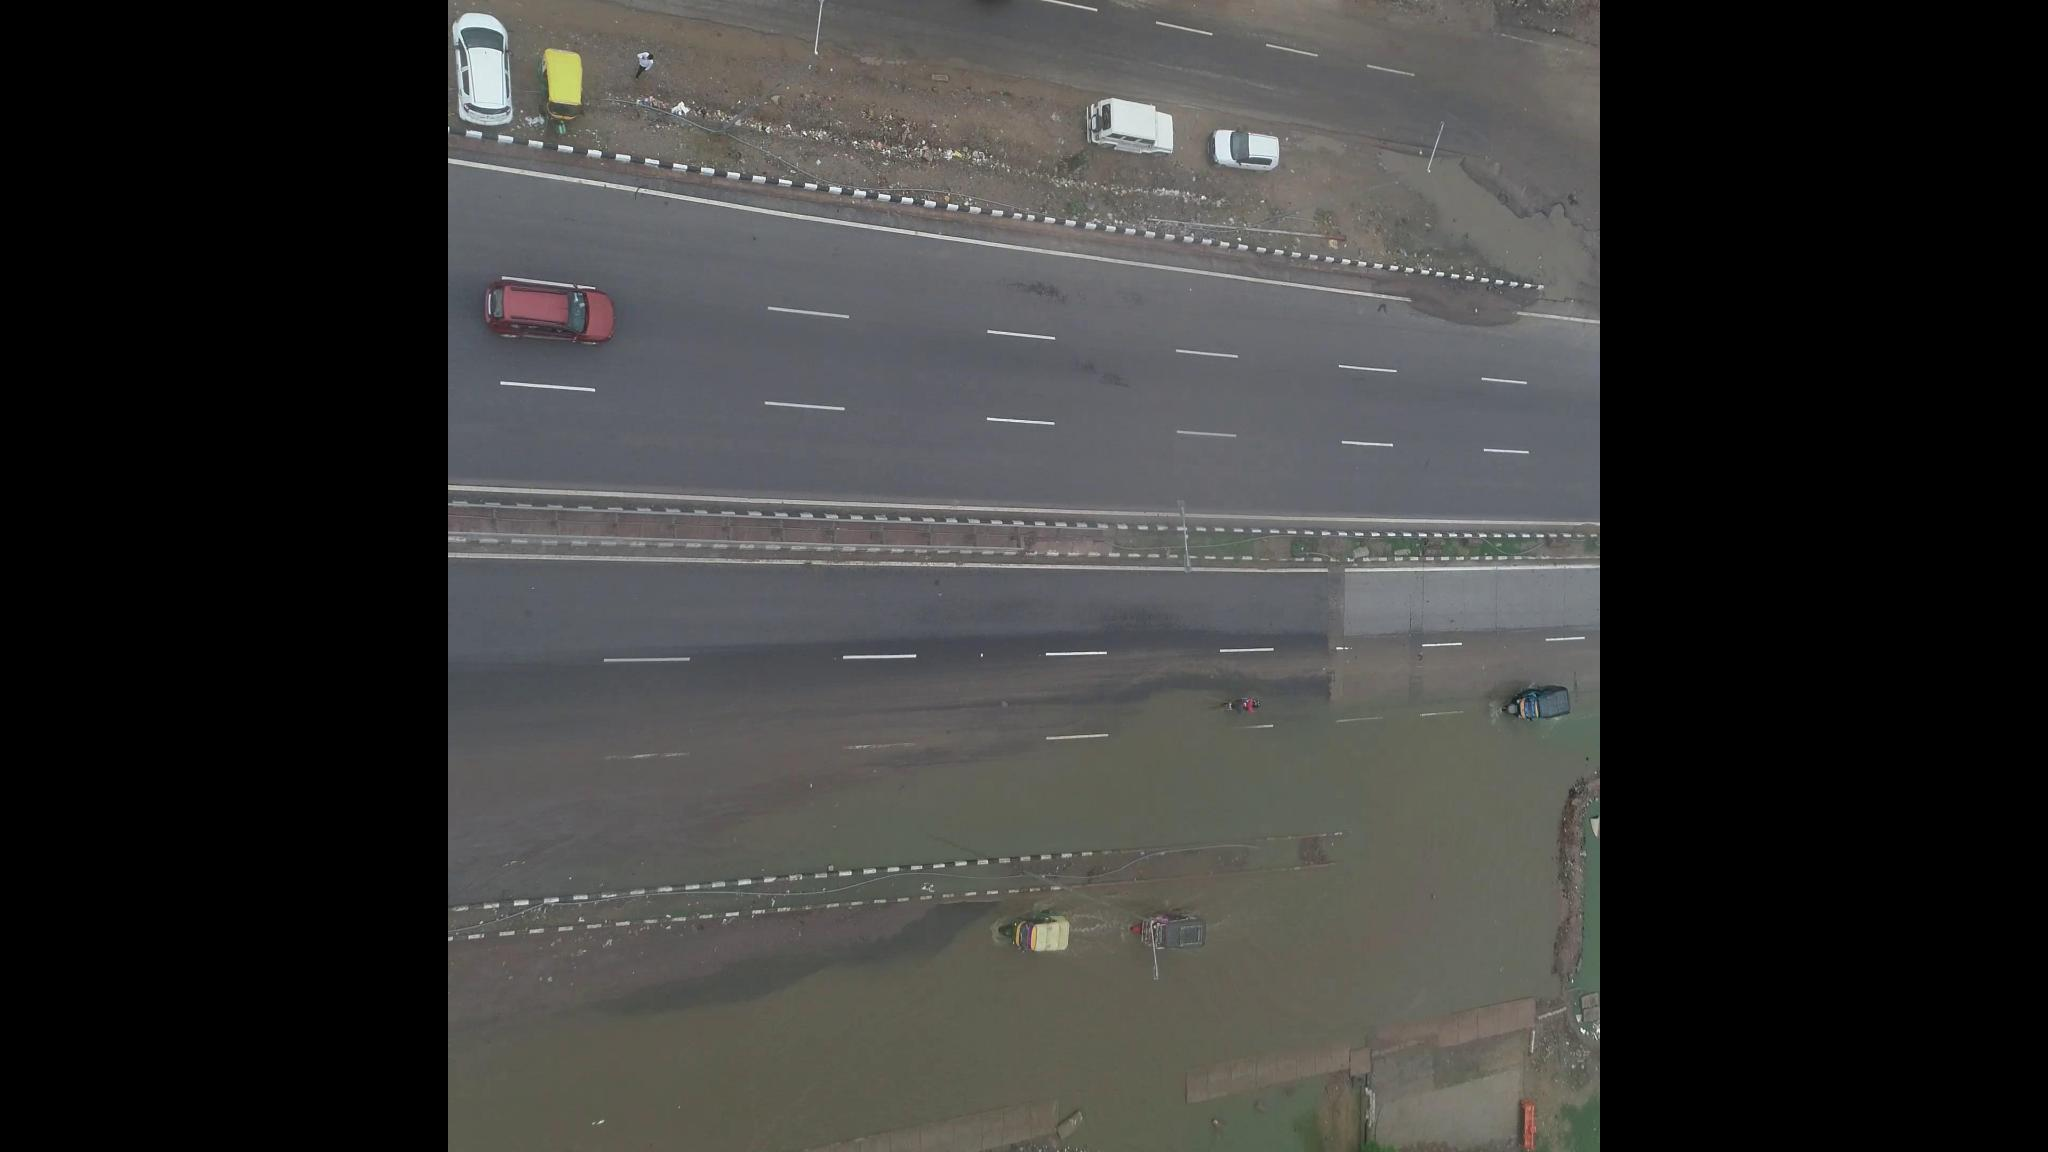Waterlogging: (570, 886, 1142, 1139), (1165, 753, 1589, 1052), (885, 685, 1422, 879)
